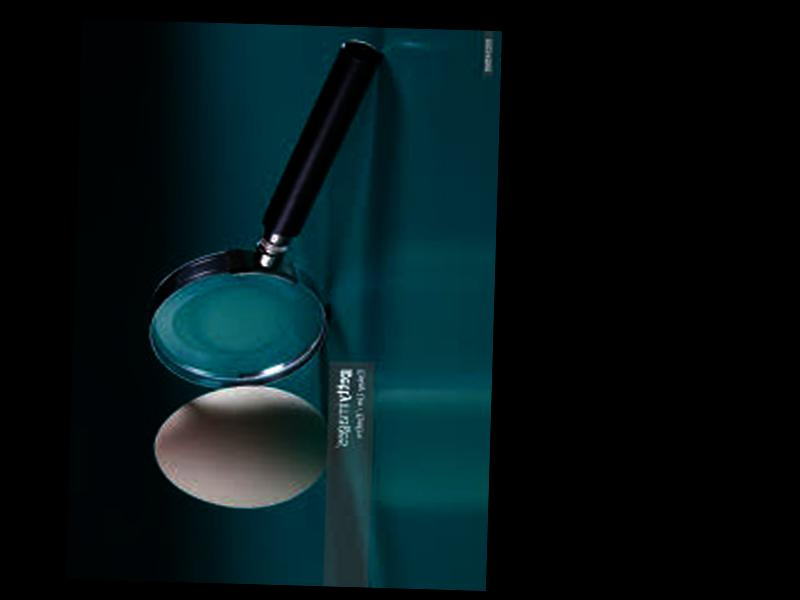Eggs: (151, 382, 331, 511)
